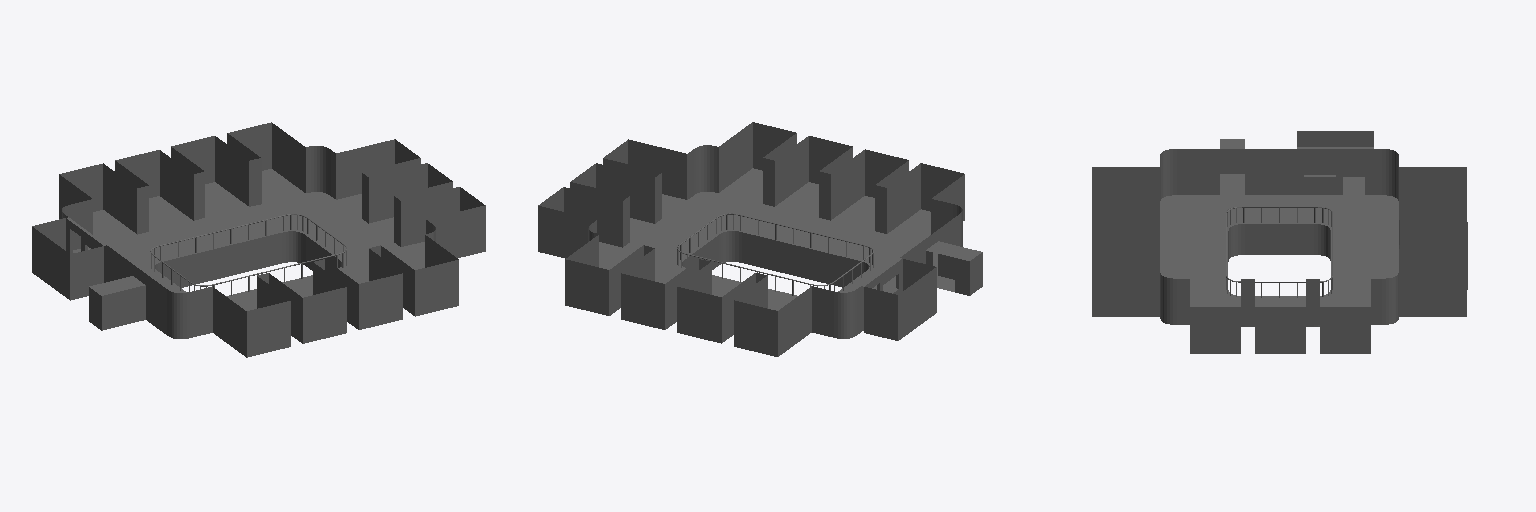
Rendered from nivel1.obj.
3 renders of one model, left to right at view 1: azimuth 30°, elevation 25°; view 2: azimuth 150°, elevation 25°; view 3: azimuth 270°, elevation 25°, orthographic.
Visible parts, largest first — view 1: Plane005; view 2: Plane005; view 3: Plane005.
Boxes of the visible parts, box(x1,y1,x2,y2) form: Plane005: box(32, 122, 485, 357); Plane005: box(538, 122, 982, 356); Plane005: box(1092, 131, 1467, 353).
Size of the model in its own units: 250 by 50 by 221.